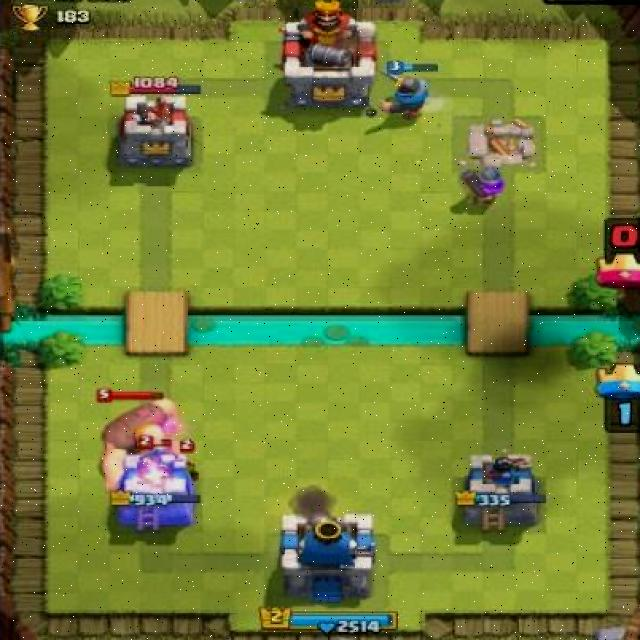Enemy-Giant: (94, 386, 181, 498)
Enemy-Goblin: (168, 436, 209, 486), (135, 432, 177, 478)
Player-Knight: (377, 61, 440, 124)
Player-Musketeer: (454, 160, 508, 206)
